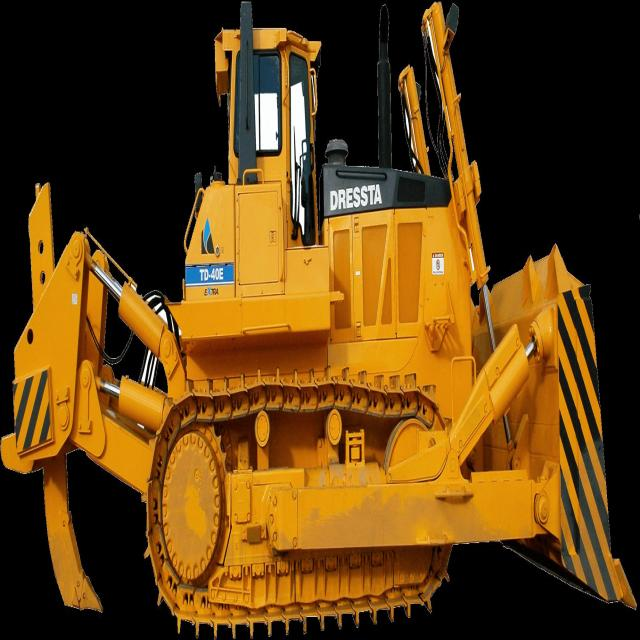Bulldozer: (62, 26, 636, 639)
